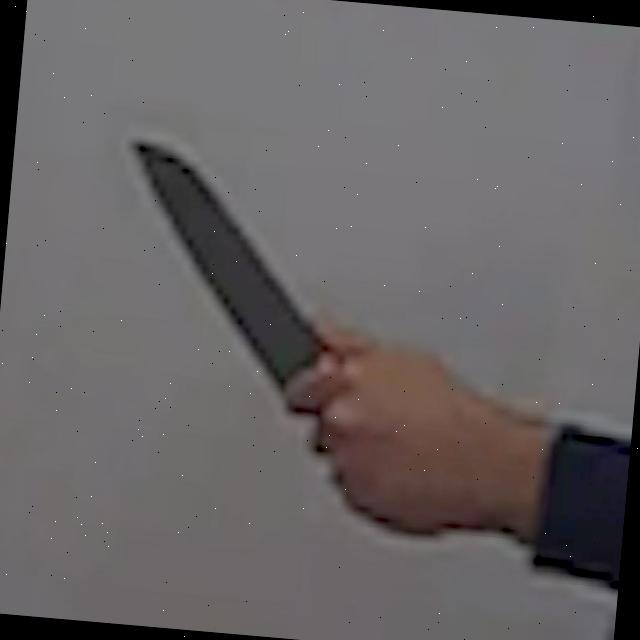suspicion: (81, 123, 640, 599), (104, 130, 326, 370)
